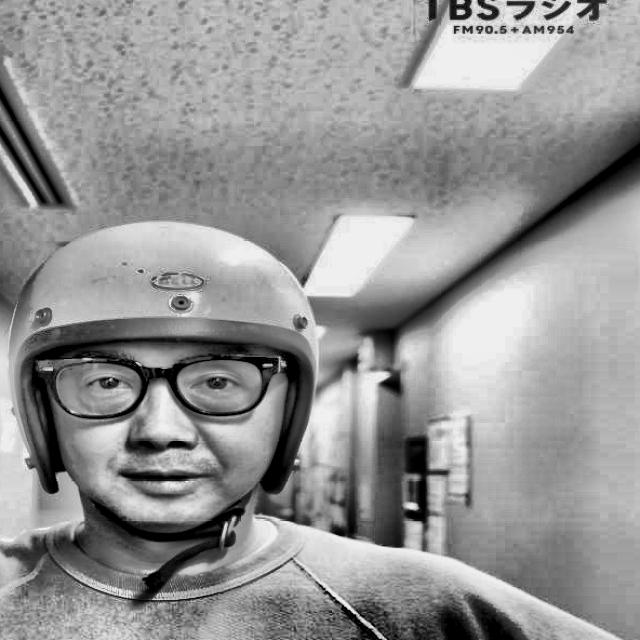Helmet: (2, 212, 327, 547)
